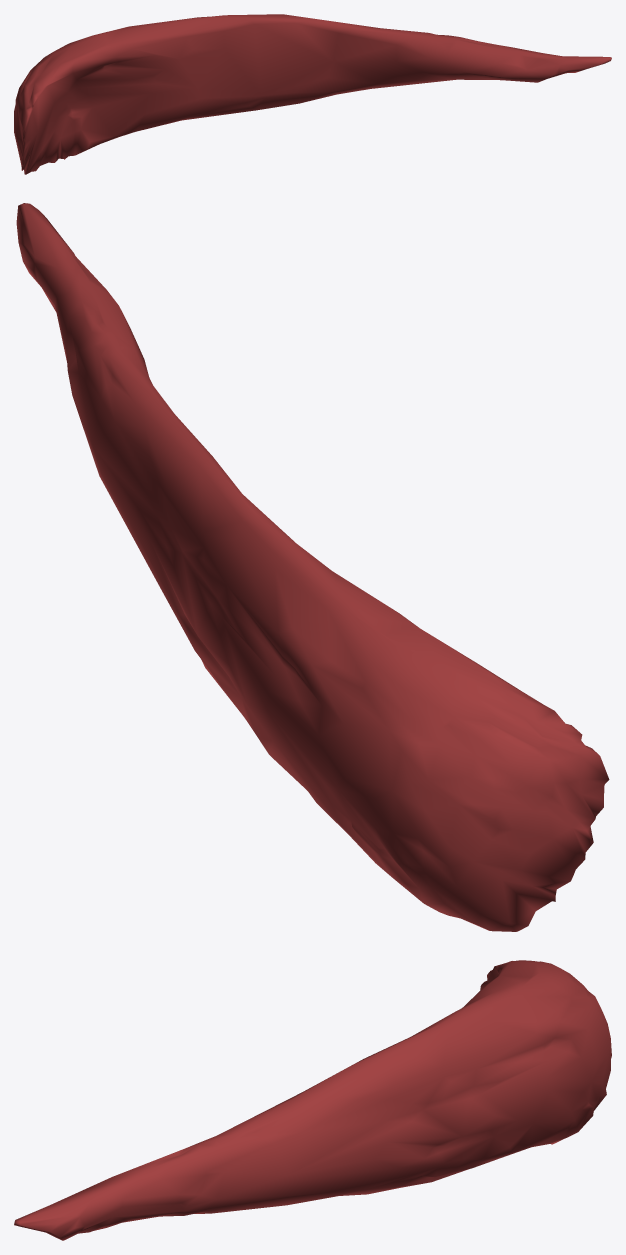
Rendered from inferior-gemellus-muscle-l.glb.
3 views of the same model, one above another, from view 1: azimuth 30°, elevation 25°; view 2: azimuth 150°, elevation 25°; view 3: azimuth 270°, elevation 25° (orthographic). The views are drawn at different scales.
Visible parts, largest first — view 1: Inferior gemellus muscle.l; view 2: Inferior gemellus muscle.l; view 3: Inferior gemellus muscle.l.
Part boxes in pixels (bbox=[...]): Inferior gemellus muscle.l: bbox=[14, 14, 611, 174]; Inferior gemellus muscle.l: bbox=[16, 203, 609, 931]; Inferior gemellus muscle.l: bbox=[14, 960, 611, 1240].
Size of the model in its own units: 0.0728 by 0.0232 by 0.0543.
